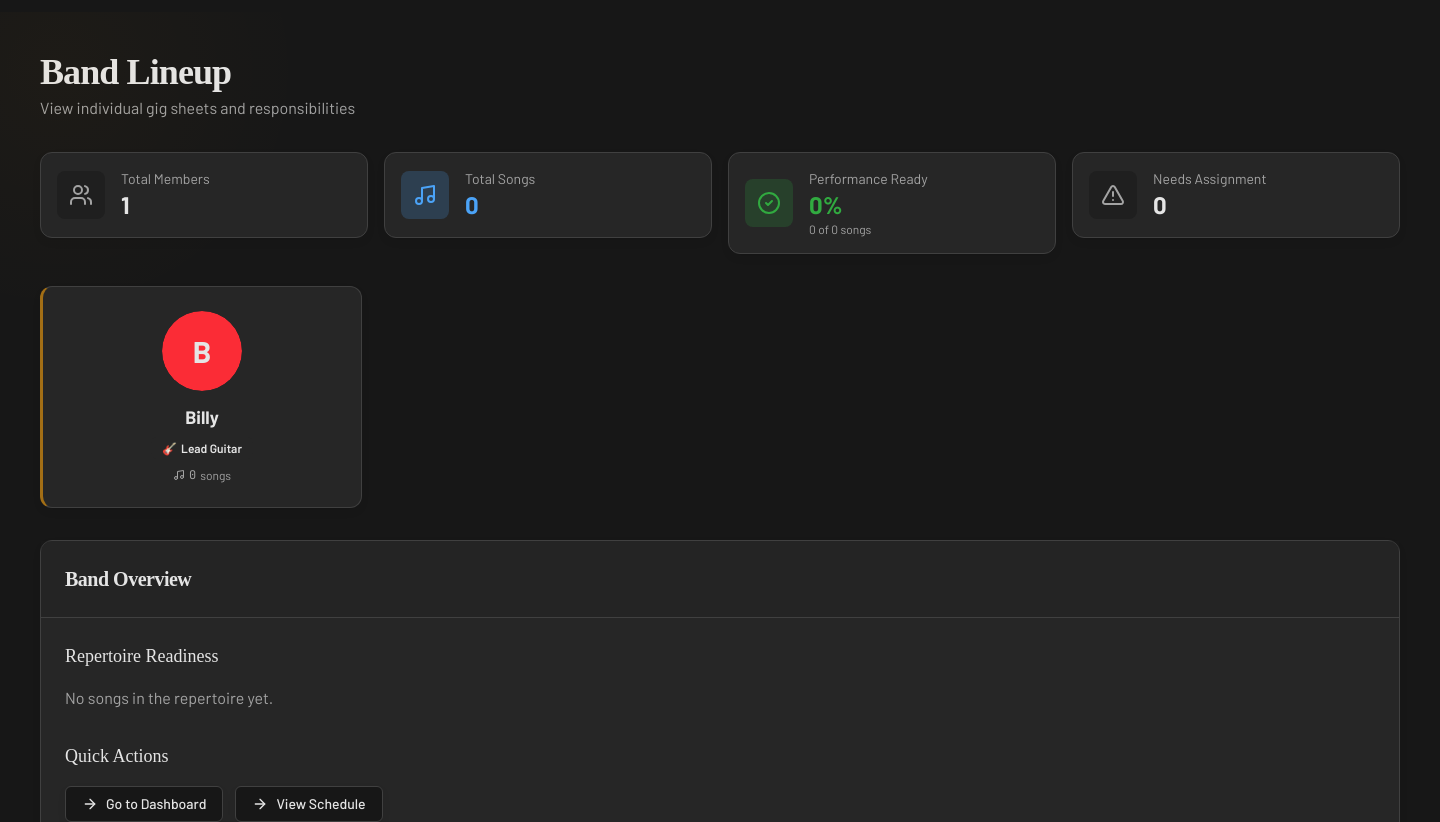
BandDashboard › gig sheet detail › shows "No songs assigned" message for member with no songs
Click on Billy's card
Step 1. Click the button with aria-label "Select Billy" → coordinates (202, 351), box [40, 286, 362, 508]
(page scrolled)
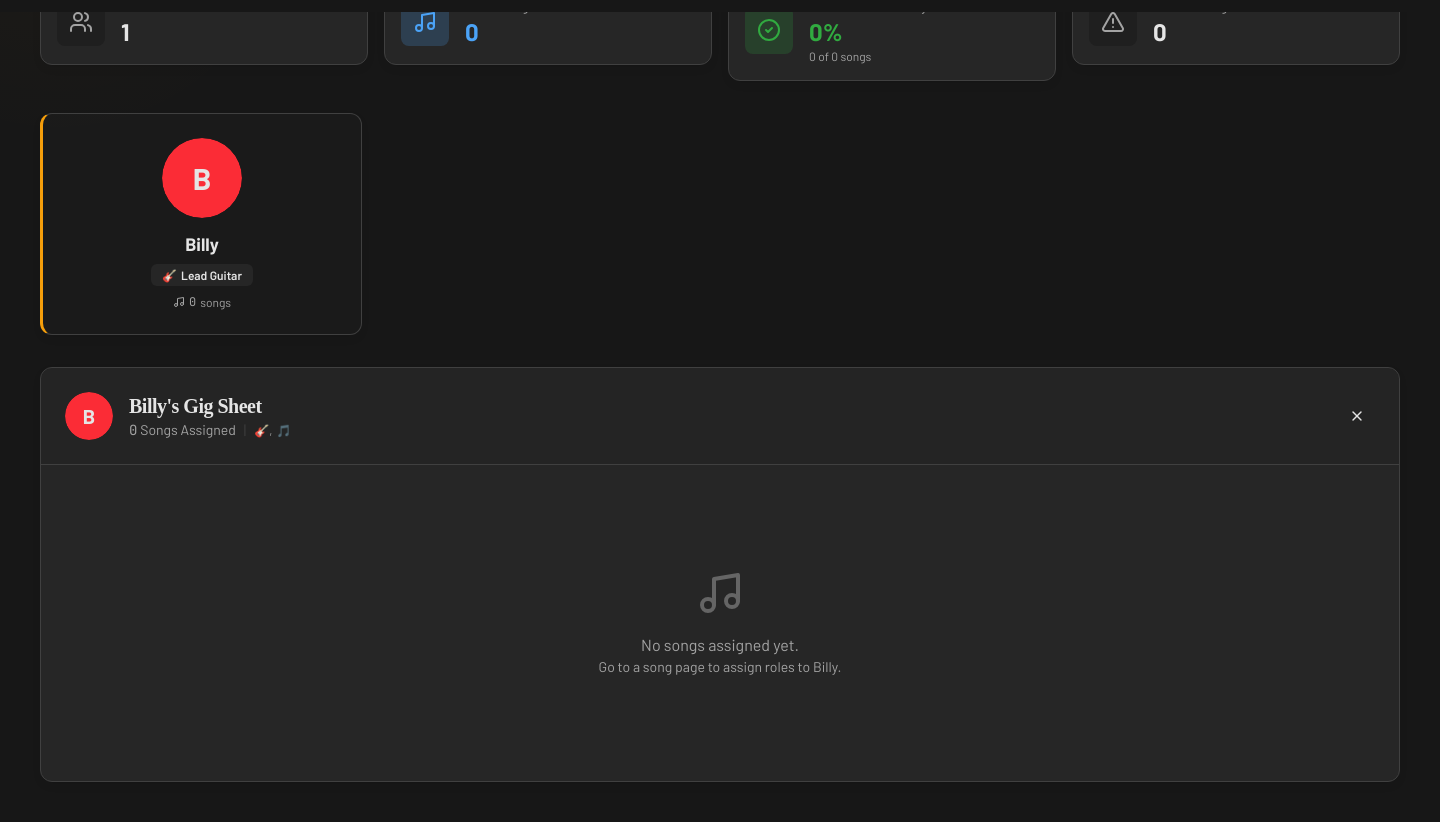
Expected: the text "No songs assigned yet." is shown, [641, 635, 799, 654]
